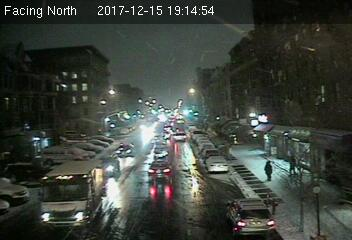car: (226, 196, 277, 237), (145, 158, 173, 179), (204, 155, 229, 173), (114, 144, 135, 158), (174, 131, 188, 142)
pedestrian: (264, 160, 273, 184)
ups: (37, 159, 108, 228)
